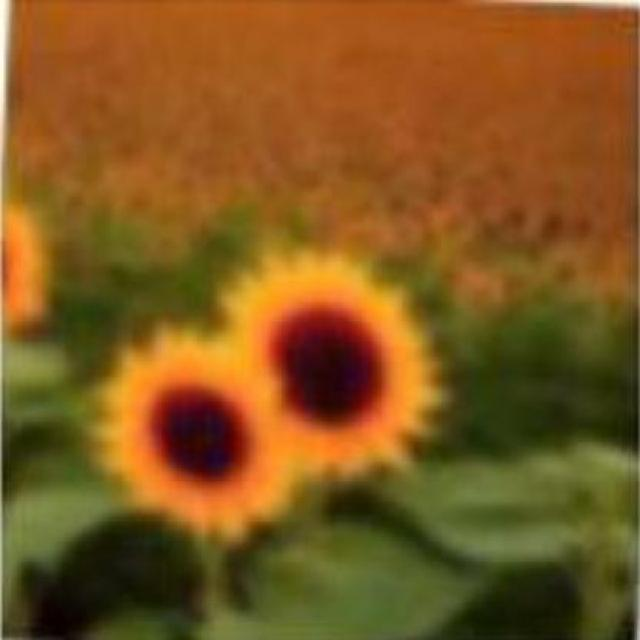sunflower: (250, 247, 447, 488), (95, 326, 286, 534)
